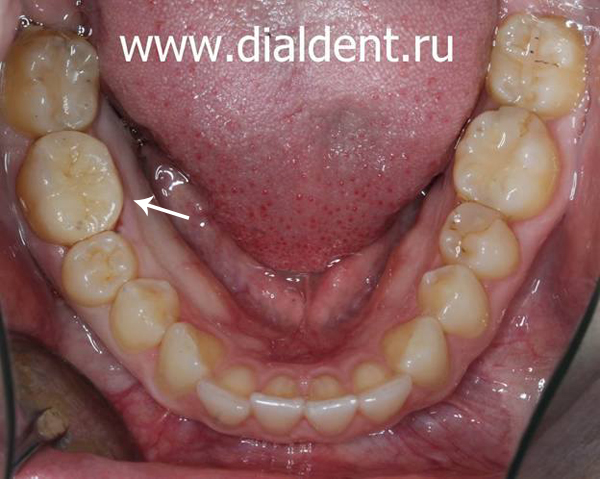LL1BC_healthy: (412, 264, 496, 340)
LL1M_decay: (451, 105, 562, 223)
LL2BC_decay: (434, 198, 524, 282)
LL2M_decay: (487, 14, 585, 118)
LLCI_healthy: (304, 374, 353, 438)
LLC_healthy: (377, 308, 456, 394)
LLLI_healthy: (358, 361, 410, 424)
LR1BC_decay: (109, 272, 178, 351)
LR1M_decay: (14, 131, 124, 240)
LR2BC_decay: (66, 224, 136, 308)
LR2M_healthy: (9, 30, 100, 139)
LRCI_healthy: (251, 372, 304, 436)
LRC_healthy: (149, 322, 224, 398)
LRLI_healthy: (194, 372, 259, 428)
